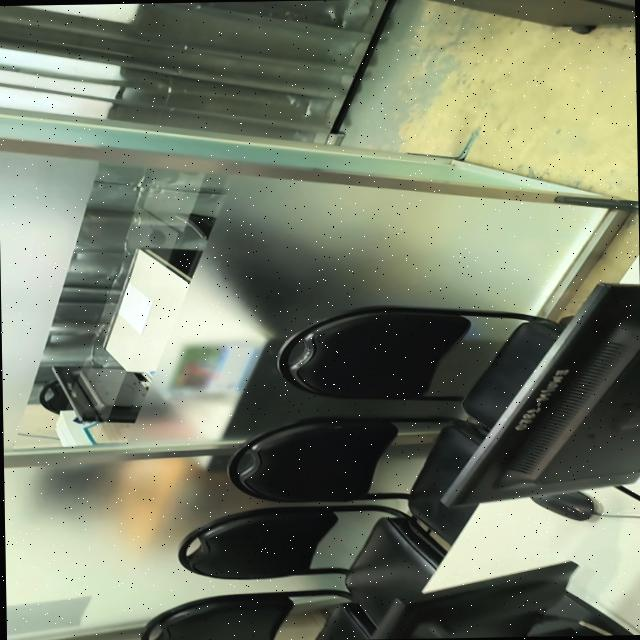Chair: (276, 307, 564, 428), (227, 418, 483, 542), (177, 505, 443, 620), (140, 590, 351, 640), (314, 602, 375, 640)
Monitor: (444, 283, 640, 506), (369, 561, 635, 639)
Mouse: (529, 491, 594, 520)
